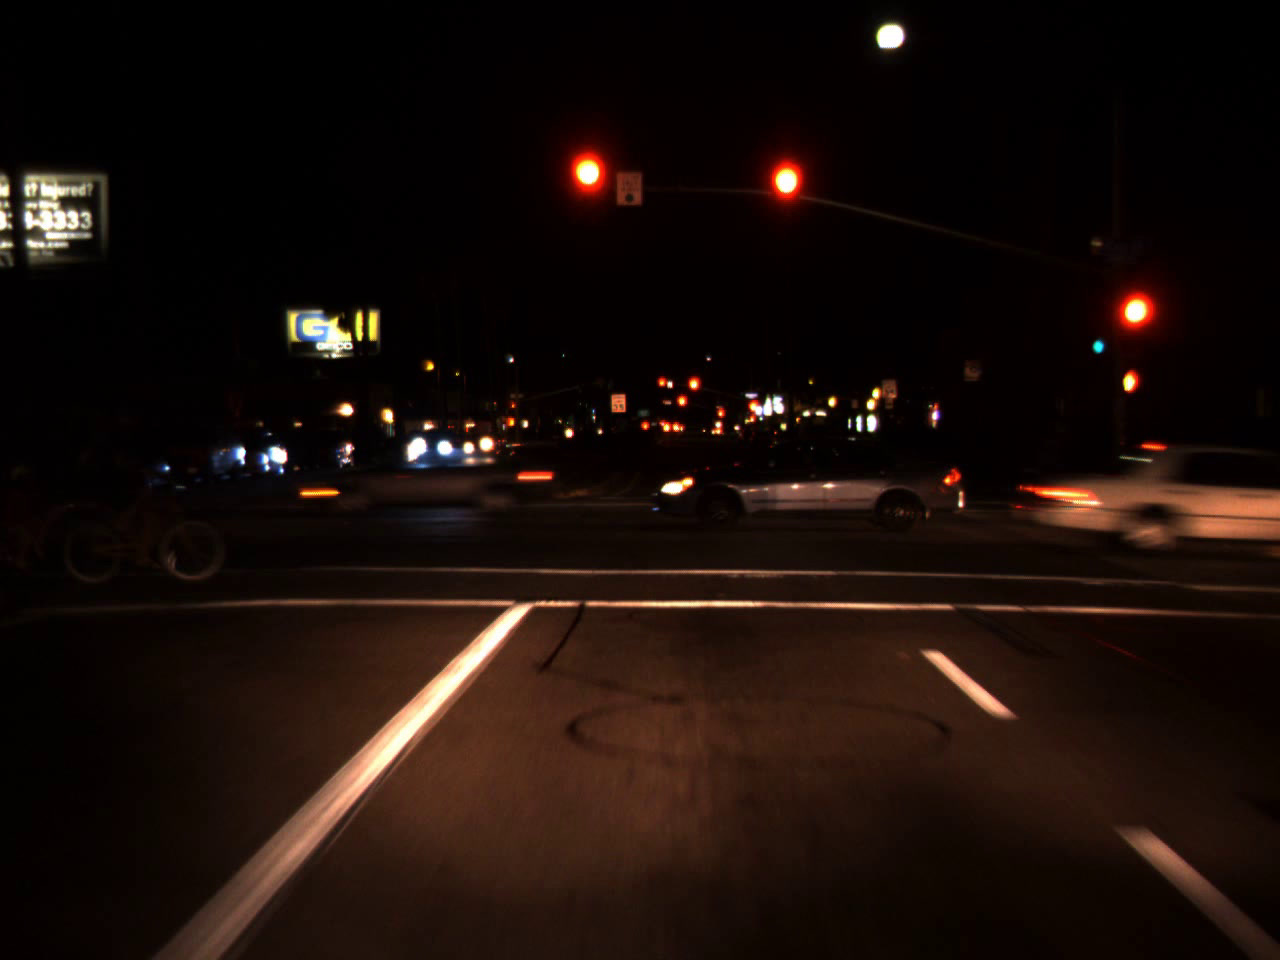stop: (767, 163, 803, 238), (1115, 293, 1155, 357), (569, 155, 608, 219), (686, 375, 699, 402), (675, 393, 688, 419), (745, 397, 758, 421), (656, 376, 668, 400), (716, 406, 725, 427), (510, 403, 516, 413)
